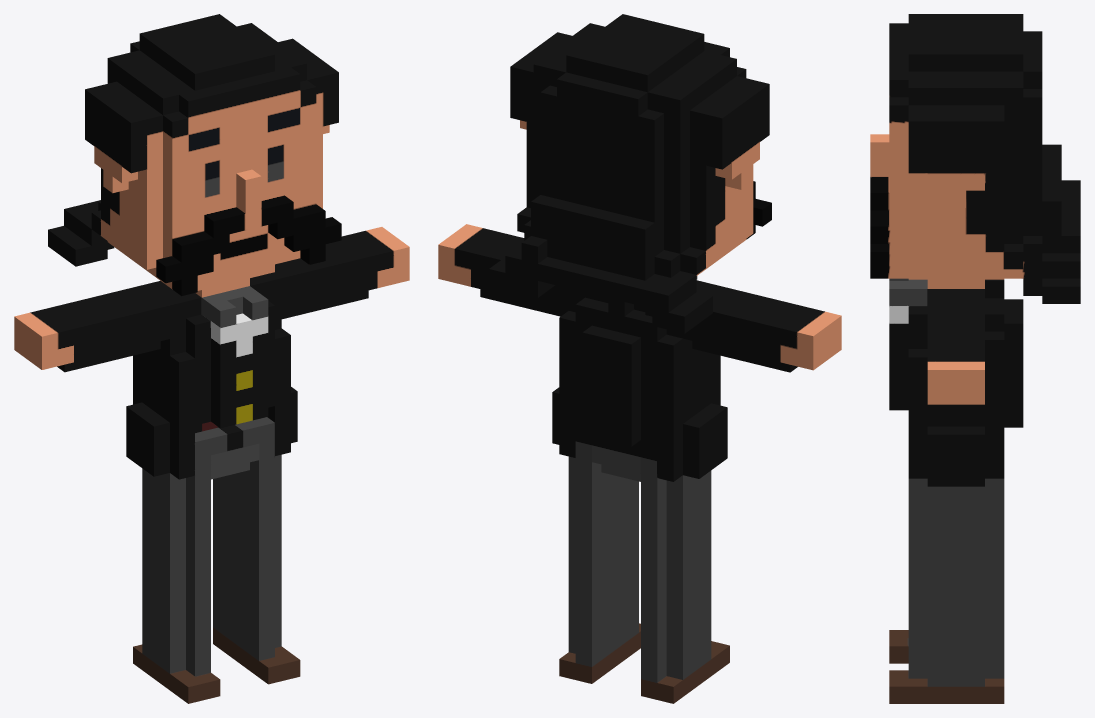
File: okubotoshimichi.glb
The picture shows the model from 3 angles, left to right: view 1: azimuth 30°, elevation 25°; view 2: azimuth 150°, elevation 25°; view 3: azimuth 270°, elevation 25°; orthographic projection. The views are drawn at different scales.
Parts seen in each view (by area): view 1: okubotoshimichi-Head, okubotoshimichi-Spine, okubotoshimichi-RightLeg, okubotoshimichi-LeftLeg, okubotoshimichi-RightArm, okubotoshimichi-LeftArm; view 2: okubotoshimichi-Head, okubotoshimichi-Spine, okubotoshimichi-RightLeg, okubotoshimichi-LeftLeg, okubotoshimichi-RightArm, okubotoshimichi-LeftArm; view 3: okubotoshimichi-Head, okubotoshimichi-LeftLeg, okubotoshimichi-Spine, okubotoshimichi-LeftArm, okubotoshimichi-RightLeg.
Boxes of the visible parts, <box> form: okubotoshimichi-Head: <box>48,14,341,297</box>; okubotoshimichi-Spine: <box>126,272,297,492</box>; okubotoshimichi-RightLeg: <box>133,470,220,703</box>; okubotoshimichi-LeftLeg: <box>213,462,300,684</box>; okubotoshimichi-RightArm: <box>14,285,169,372</box>; okubotoshimichi-LeftArm: <box>274,227,409,319</box>; okubotoshimichi-Head: <box>489,14,771,333</box>; okubotoshimichi-Spine: <box>552,276,727,494</box>; okubotoshimichi-RightLeg: <box>641,472,729,703</box>; okubotoshimichi-LeftLeg: <box>559,464,640,683</box>; okubotoshimichi-RightArm: <box>683,284,841,372</box>; okubotoshimichi-LeftArm: <box>438,224,568,316</box>; okubotoshimichi-Head: <box>870,14,1080,303</box>; okubotoshimichi-LeftLeg: <box>889,488,1004,703</box>; okubotoshimichi-Spine: <box>889,278,1023,495</box>; okubotoshimichi-LeftArm: <box>927,305,984,405</box>; okubotoshimichi-RightLeg: <box>889,630,908,663</box>.
Size of the model in its own units: 0.4601 by 0.7401 by 0.22.
6 materials, 6 textured.
